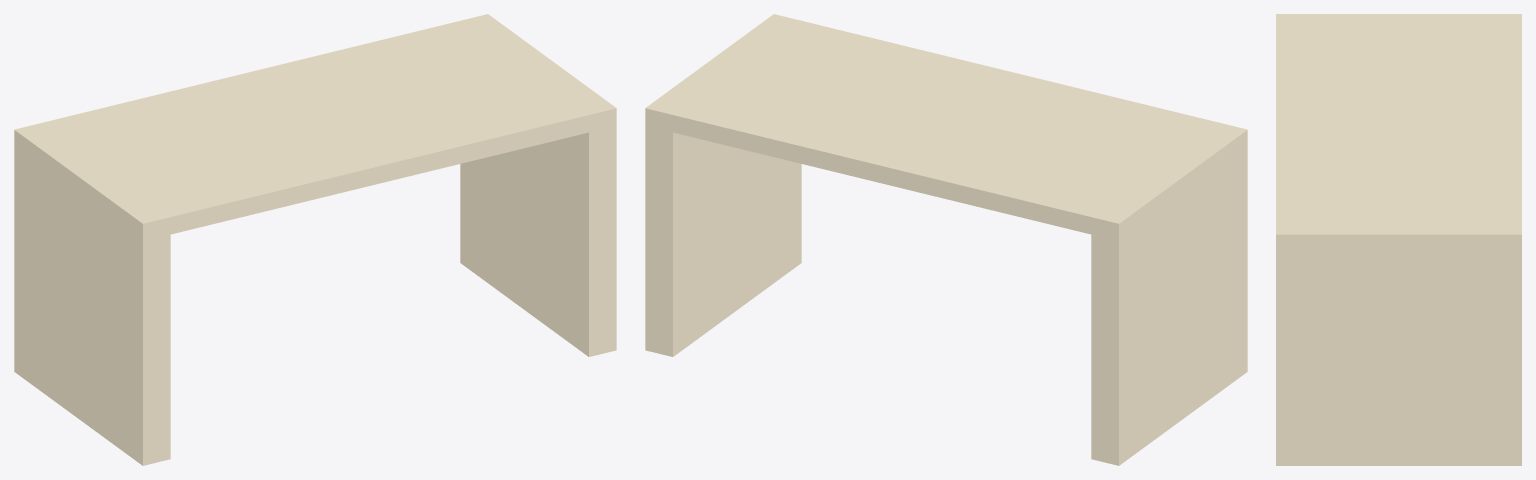
The model's file is 24-tunnel.glb.
3 renders of one model, left to right at view 1: azimuth 30°, elevation 25°; view 2: azimuth 150°, elevation 25°; view 3: azimuth 270°, elevation 25°, orthographic. The views are drawn at different scales.
Parts seen in each view (by area): view 1: TunnelArch; view 2: TunnelArch; view 3: TunnelArch.
Part boxes in pixels (<box>): TunnelArch: <box>14,14,616,465</box>; TunnelArch: <box>645,14,1247,465</box>; TunnelArch: <box>1276,14,1521,465</box>.
Size of the model in its own units: 17 by 8.3 by 8.
